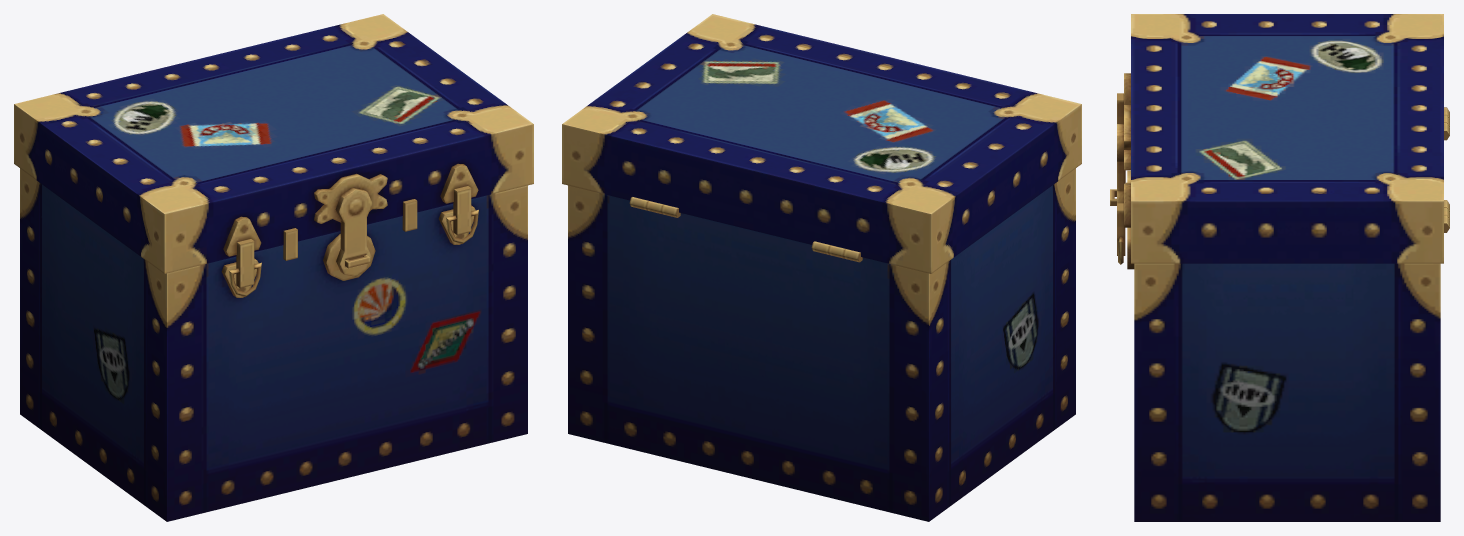
The model's file is baul_textura.fbx.
3 views of the same model, side by side, from view 1: azimuth 30°, elevation 25°; view 2: azimuth 150°, elevation 25°; view 3: azimuth 270°, elevation 25° (orthographic). The views are drawn at different scales.
Visible parts, largest first — view 1: s4studio_mesh_1; view 2: s4studio_mesh_1; view 3: s4studio_mesh_1.
Boxes of the visible parts, left/top/right/bottom form: s4studio_mesh_1: left=14, top=14, right=533, bottom=521; s4studio_mesh_1: left=562, top=14, right=1081, bottom=521; s4studio_mesh_1: left=1110, top=14, right=1449, bottom=521.
Size of the model in its own units: 85 by 68.19 by 65.1.
1 material, 1 textured.
